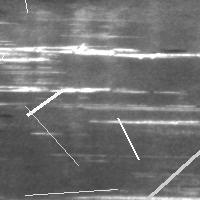scratches: (1, 87, 198, 116), (20, 101, 83, 170), (1, 44, 198, 65), (134, 146, 200, 200), (20, 184, 122, 200), (112, 113, 143, 164), (22, 85, 67, 120), (88, 114, 200, 128), (1, 82, 111, 94), (0, 50, 9, 95), (9, 0, 32, 17)
